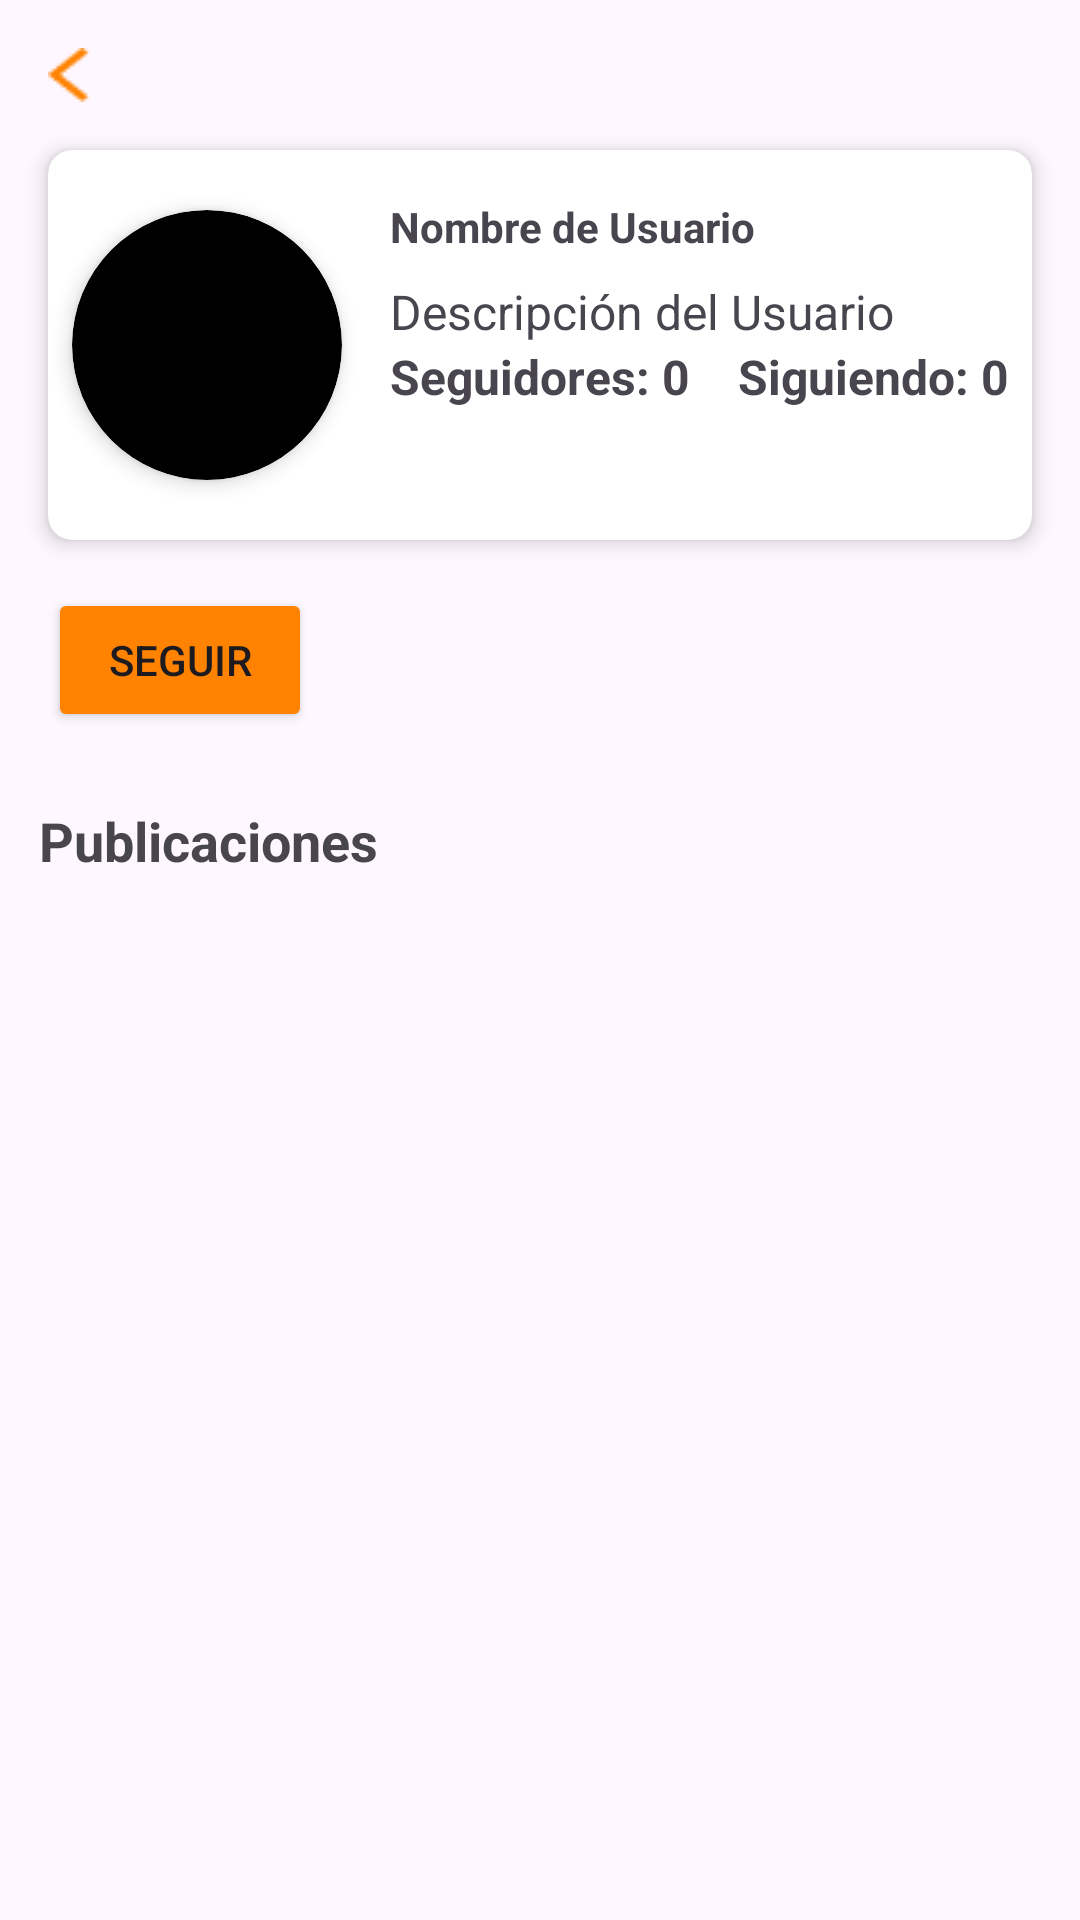

Icons on this 1080*1920 Android screen, each with its box as (x1, y1, x2, y2):
goback: (48, 48, 90, 102)
